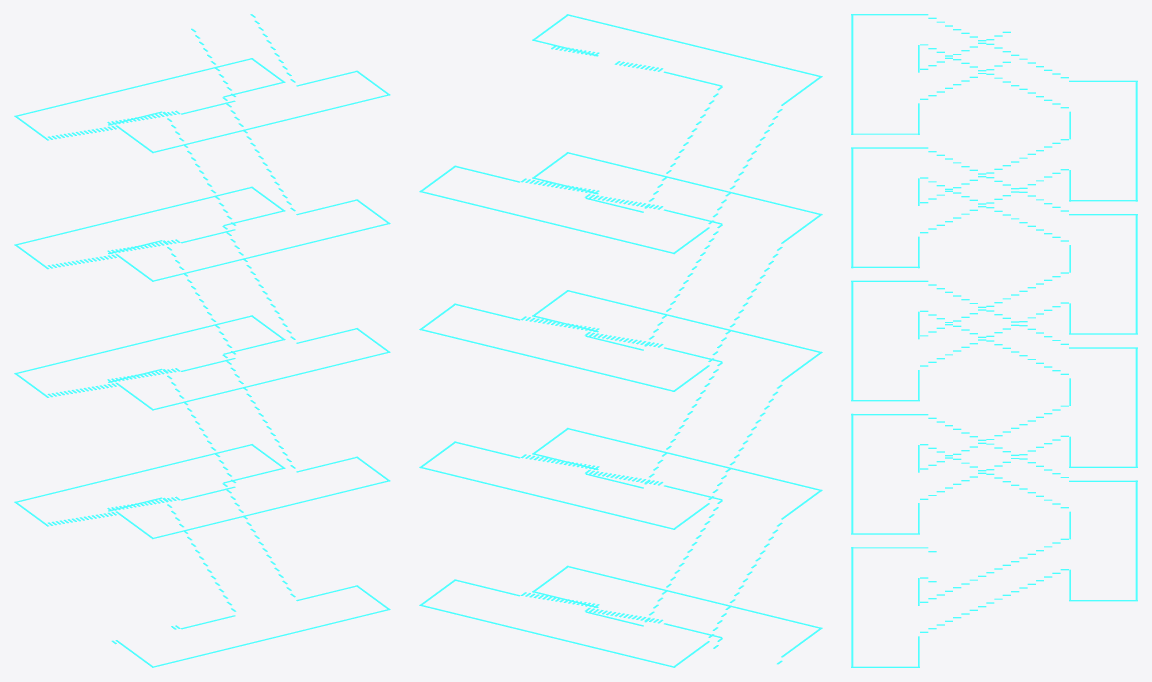
The model's file is v02-02-03-cyan.glb.
The picture shows the model from 3 angles, left to right: view 1: azimuth 30°, elevation 25°; view 2: azimuth 150°, elevation 25°; view 3: azimuth 270°, elevation 25°; orthographic projection. The views are drawn at different scales.
Parts seen in each view (by area): view 1: v02-02-03-cyan; view 2: v02-02-03-cyan; view 3: v02-02-03-cyan.
Boxes of the visible parts, left/top/right/bottom form: v02-02-03-cyan: left=14, top=14, right=390, bottom=667; v02-02-03-cyan: left=419, top=14, right=822, bottom=667; v02-02-03-cyan: left=851, top=14, right=1137, bottom=667.
Size of the model in its own units: 12.4 by 27.76 by 12.48.
